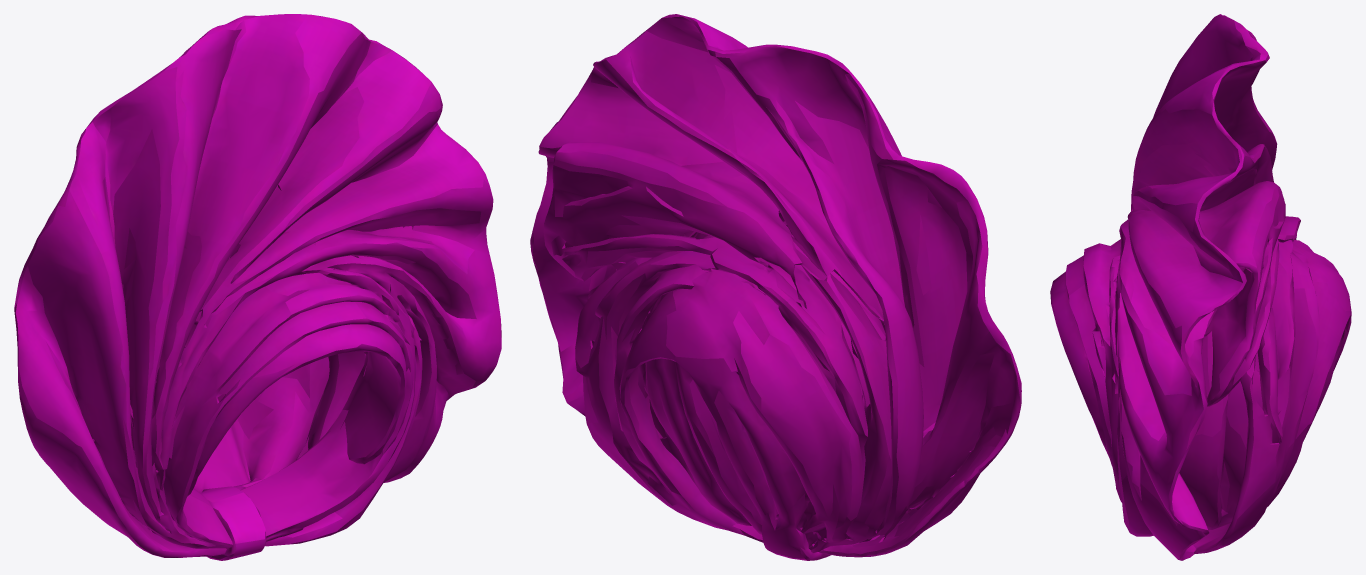
File: gele.glb
3 renders of one model, left to right at view 1: azimuth 30°, elevation 25°; view 2: azimuth 150°, elevation 25°; view 3: azimuth 270°, elevation 25°, orthographic. The views are drawn at different scales.
Parts seen in each view (by area): view 1: geometry_0; view 2: geometry_0; view 3: geometry_0.
Part boxes in pixels (box(x1,y1,x2,y2)): geometry_0: box(14, 14, 501, 560); geometry_0: box(530, 14, 1021, 560); geometry_0: box(1050, 14, 1351, 560).
Size of the model in its own units: 0.3 by 0.3001 by 0.1685.
1 material, 1 textured.
